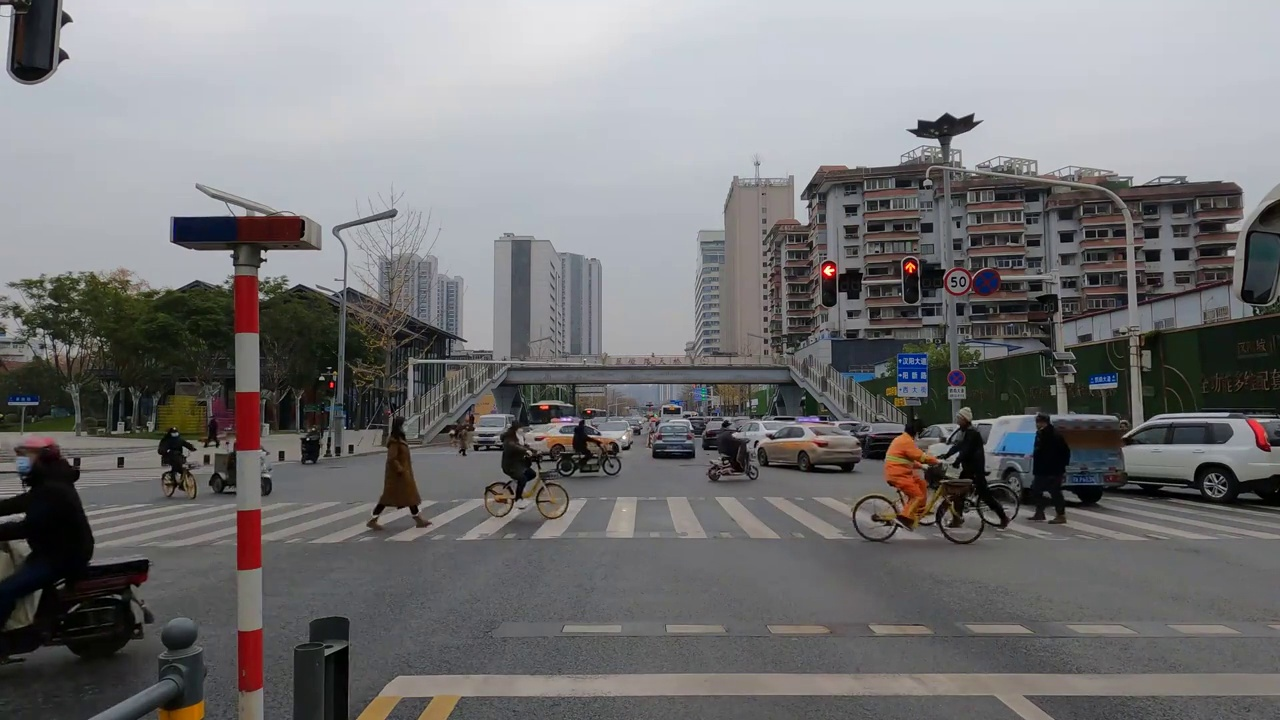lane: (354, 654, 1280, 720)
